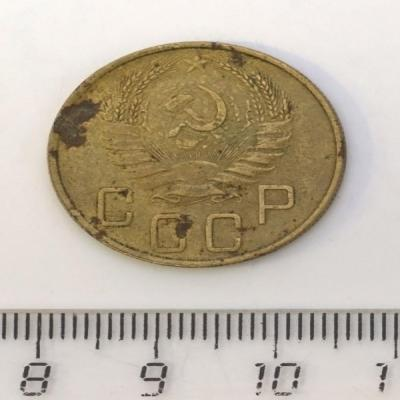numismatics: (46, 42, 348, 270)
